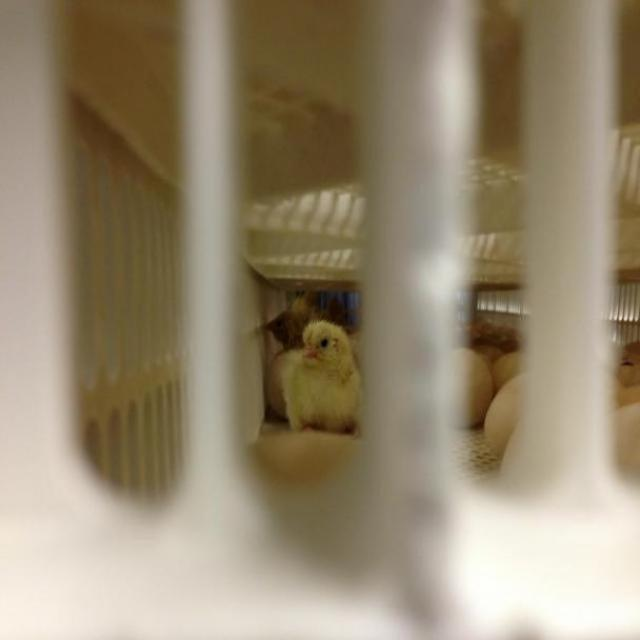Chicken: (268, 296, 357, 451)
